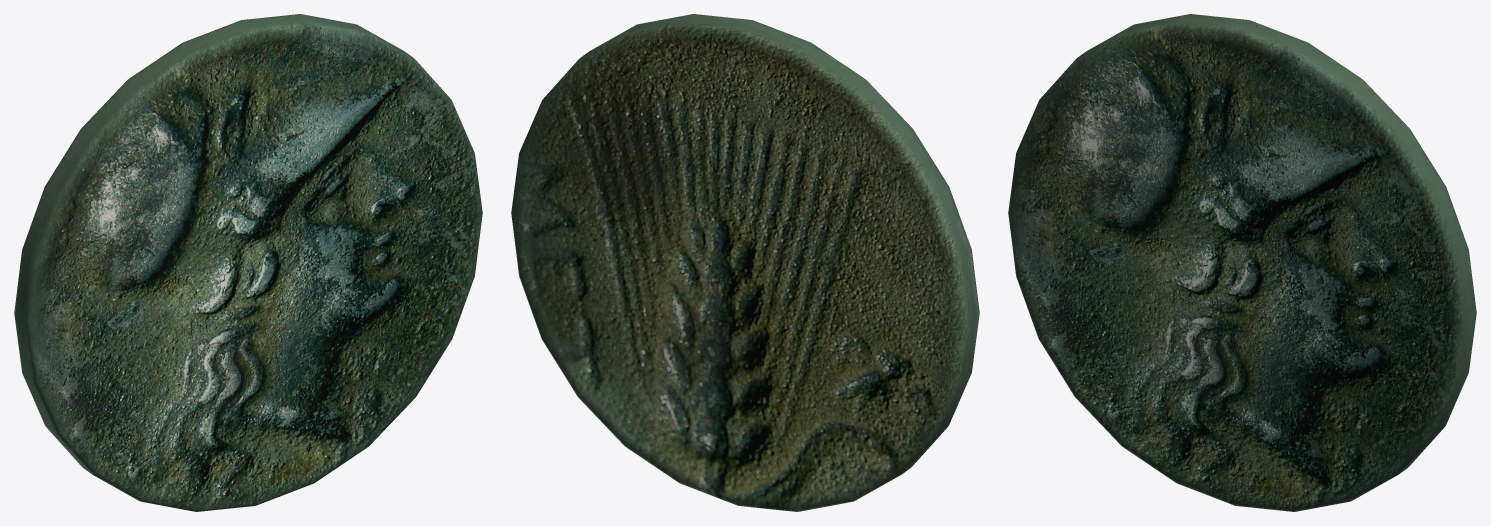
3 views of the same model, side by side, from view 1: azimuth 30°, elevation 25°; view 2: azimuth 150°, elevation 25°; view 3: azimuth 330°, elevation 25° (orthographic).
Parts seen in each view (by area): view 1: Moneta_Volto, Moneta_Spiga; view 2: Moneta_Spiga, Moneta_Volto; view 3: Moneta_Volto, Moneta_Spiga.
Part boxes in pixels (x1,y1,x2,y2): Moneta_Volto: (20, 18, 482, 511); Moneta_Spiga: (14, 14, 408, 470); Moneta_Spiga: (511, 18, 973, 511); Moneta_Volto: (585, 14, 979, 470); Moneta_Volto: (1008, 18, 1470, 511); Moneta_Spiga: (1082, 14, 1476, 470).
Size of the model in its own units: 0.4447 by 0.4447 by 0.0287.
Materials: 2 (2 with a texture image).
